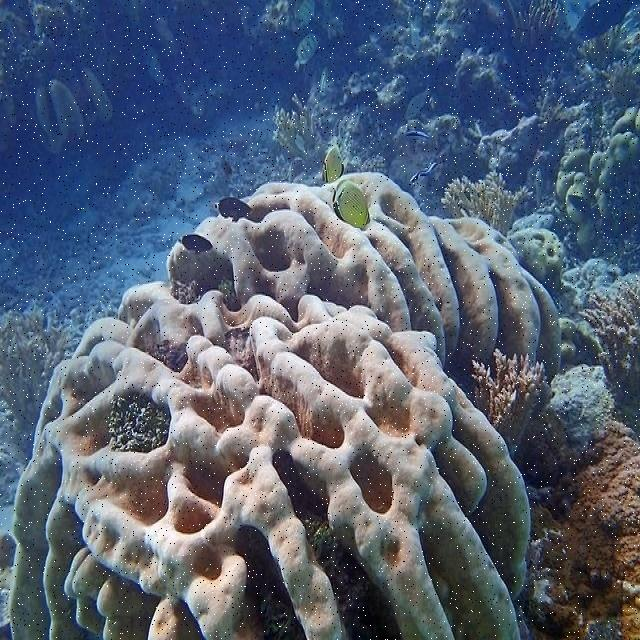fish: (332, 180, 369, 228), (294, 33, 319, 72), (322, 146, 344, 182), (320, 67, 328, 96)
reefs: (9, 172, 562, 639), (556, 104, 639, 271)
